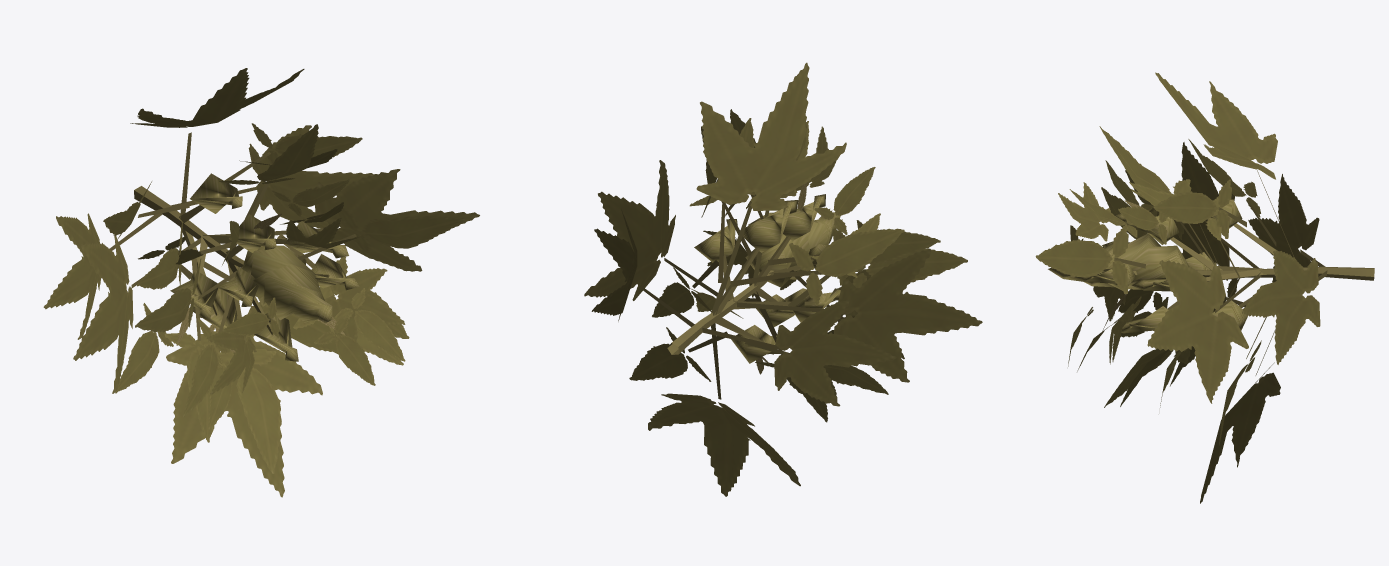
File: p_auto_flowering_c2_cards.obj
3 renders of one model, left to right at view 1: azimuth 30°, elevation 25°; view 2: azimuth 150°, elevation 25°; view 3: azimuth 270°, elevation 25°, orthographic. The views are drawn at different scales.
Size of the model in its own units: 1.4 by 1.46 by 0.979.
1 material, 1 textured.
